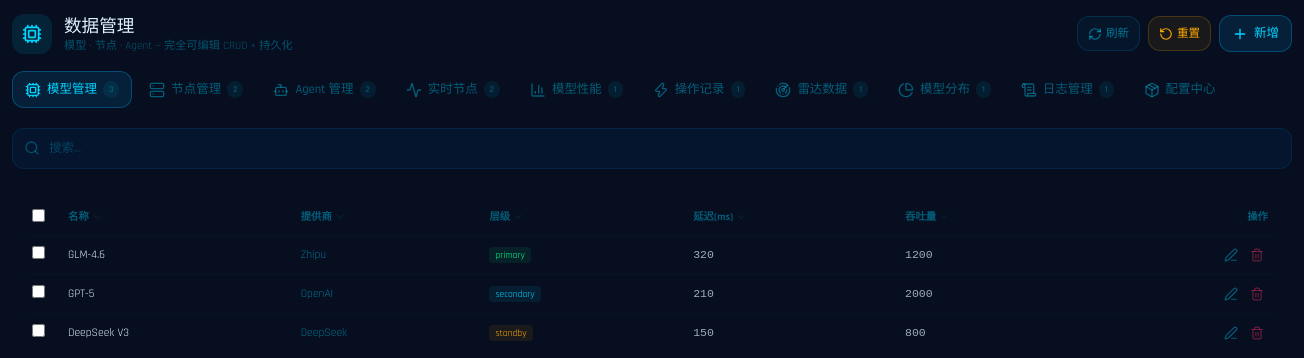
Test: DataEditorPanel 全链路 › 搜索过滤: 输入不存在关键词 → 空态文案
Expected: the text "GLM-4.6" is shown, [68, 247, 105, 262]
Type "不存在的模型" into the field with placeholder "搜索..." at (652, 148), box [12, 128, 1292, 169]
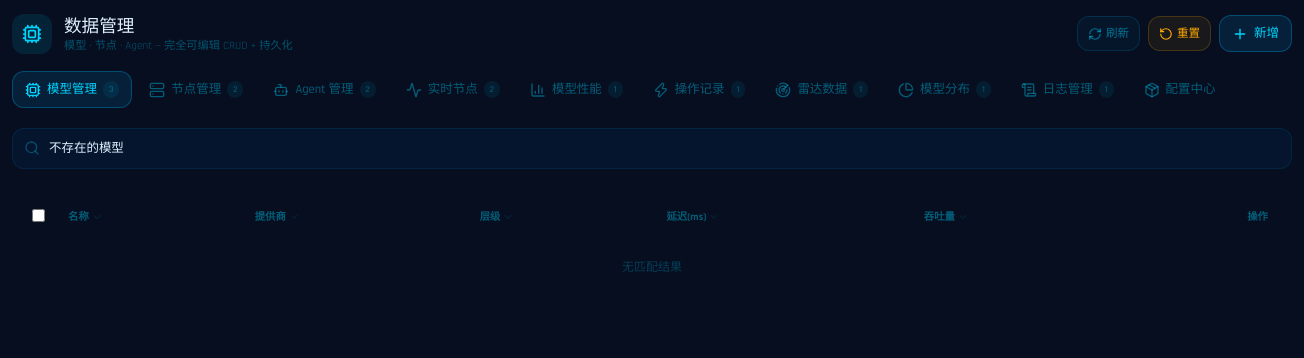
Expected: the text "无匹配结果" is shown, [622, 260, 682, 275]
